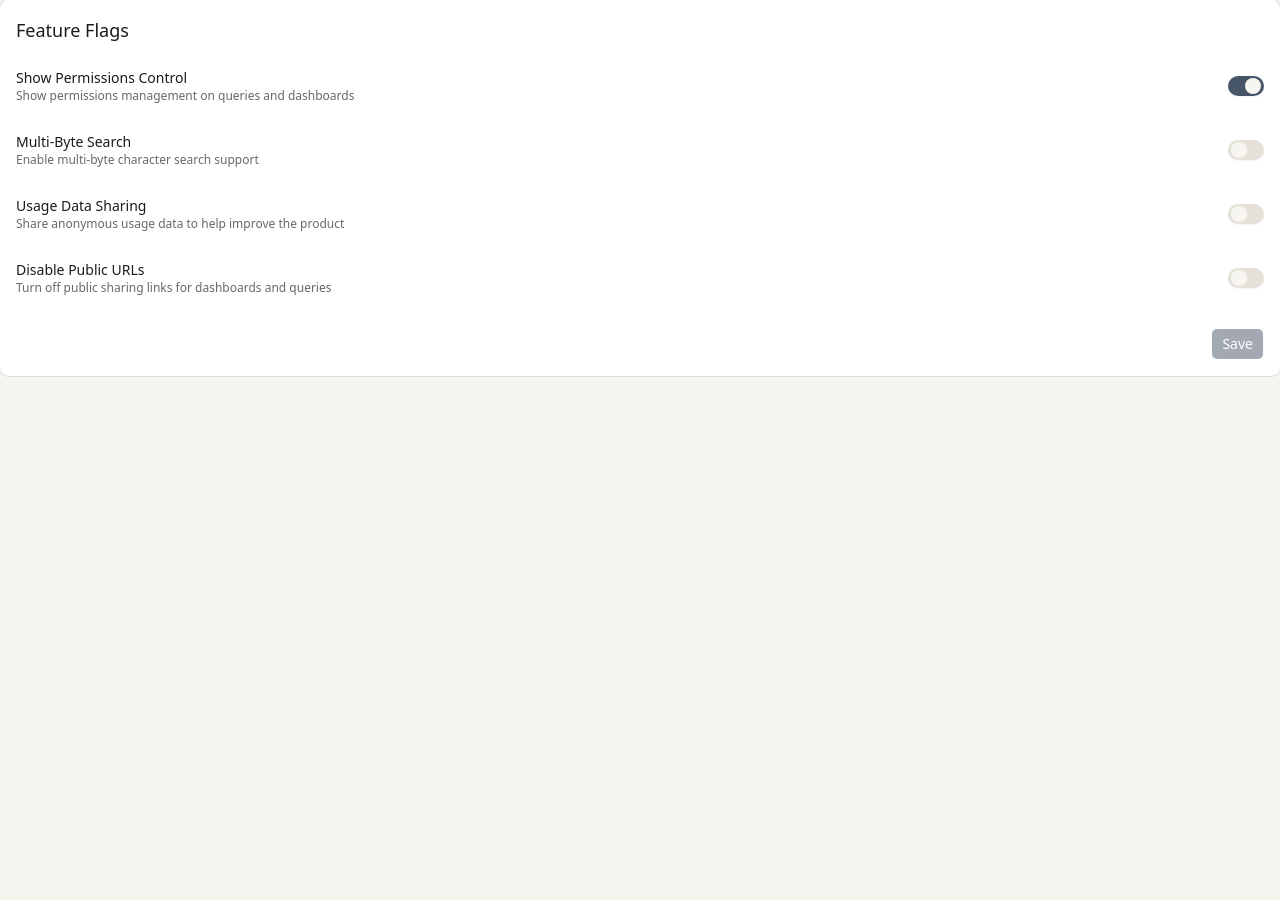
FeatureFlags › persists the toggles and confirms the save
Click the switch named "Multi-Byte Search": (1246, 150) [1228,140,1264,160]
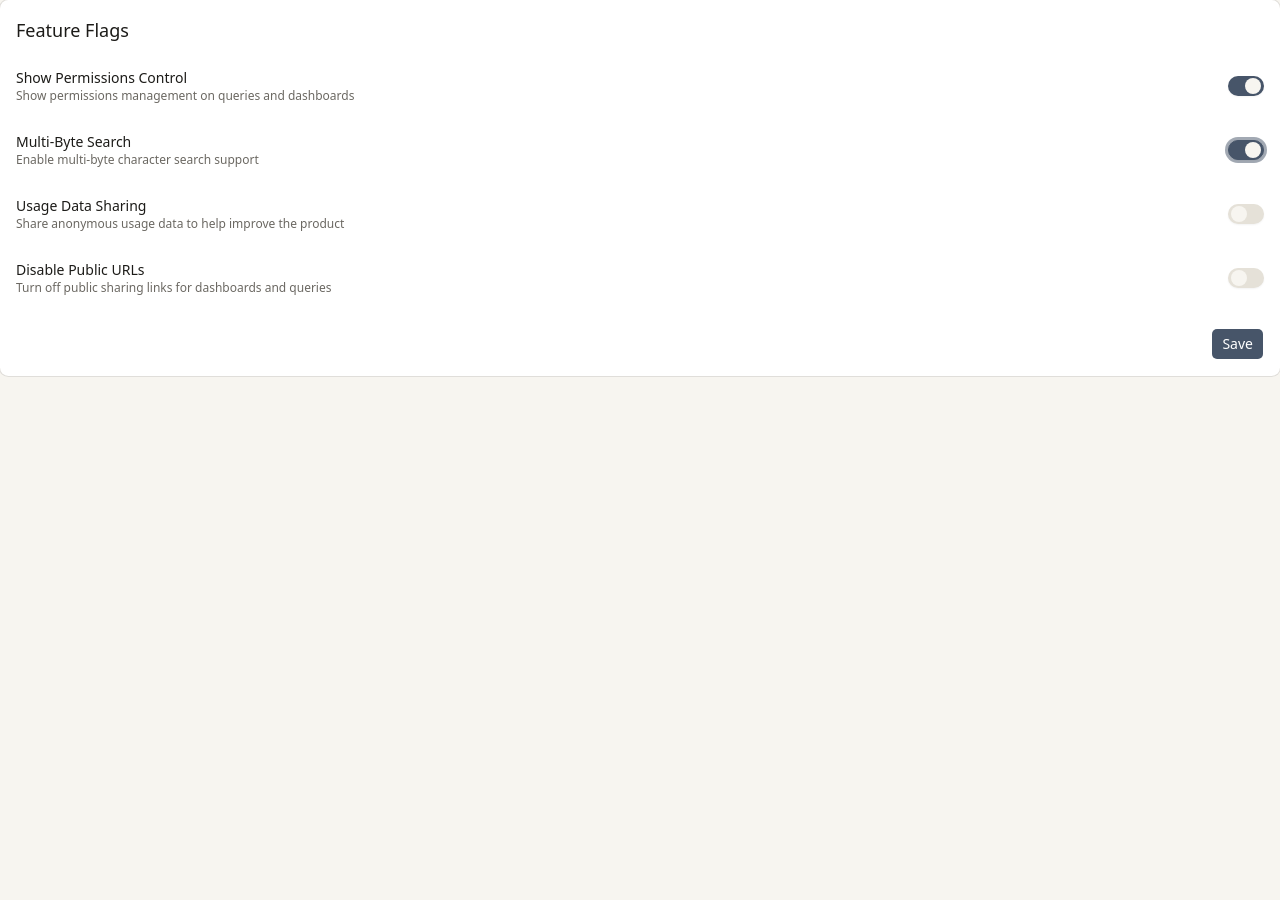
Click the button "Save": (1238, 344) [1211,328,1264,360]
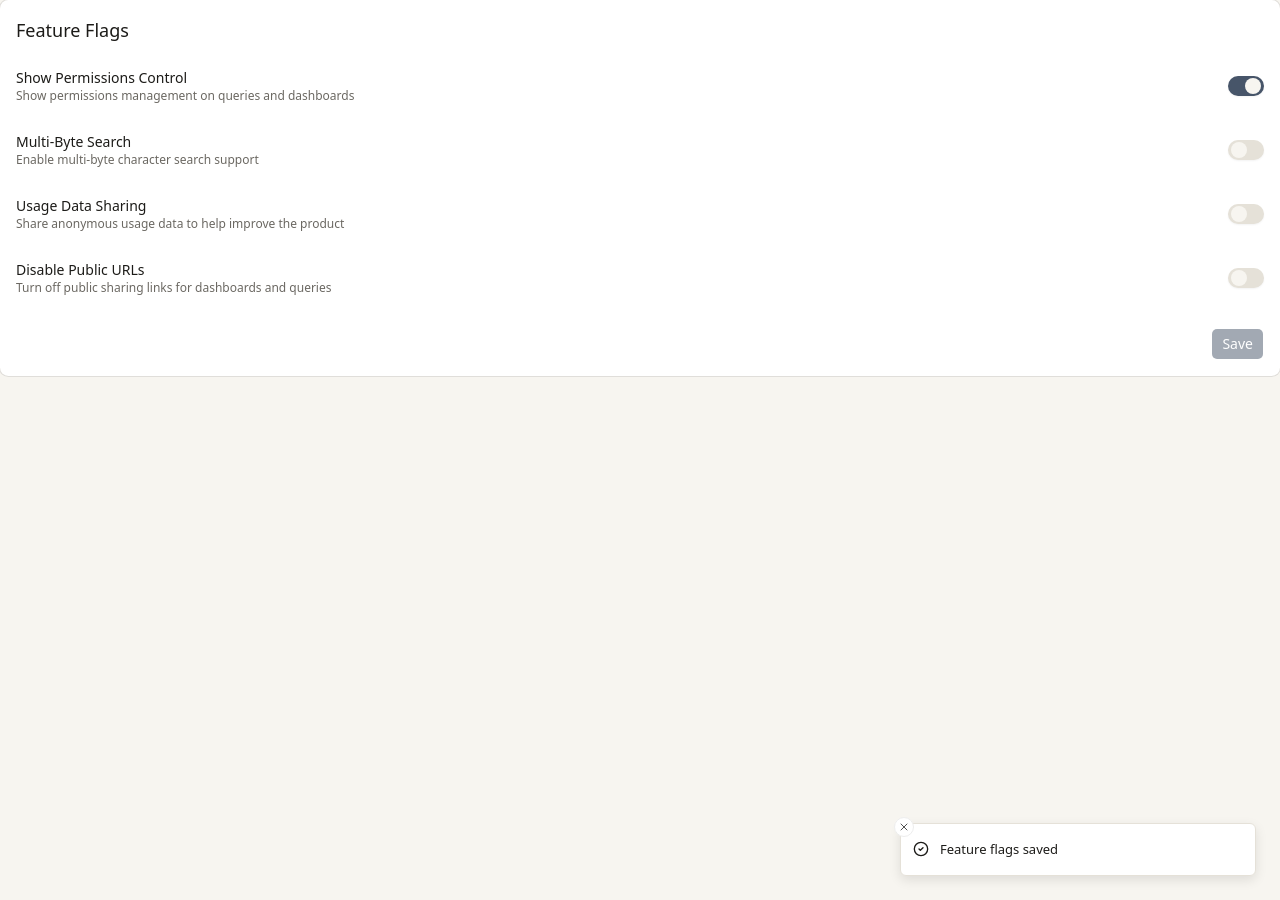
Expected: the list item "Feature flags saved" is shown, [900,822,1256,876]
